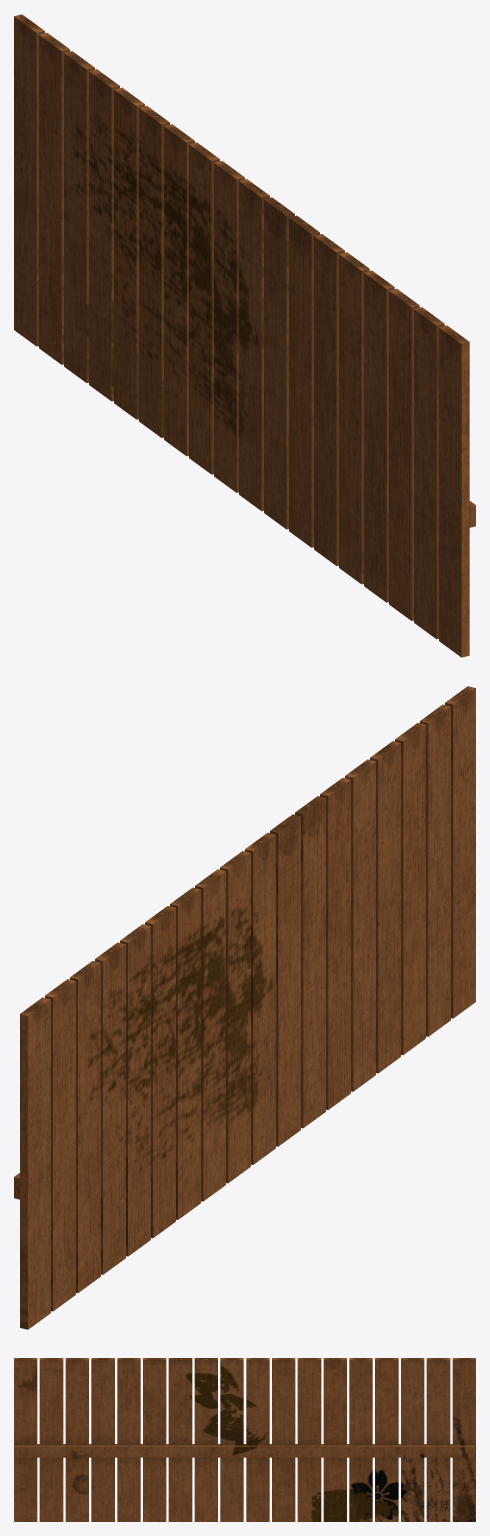
File: ghibli_wood.glb
3 renders of one model, top to bottom at view 1: azimuth 30°, elevation 25°; view 2: azimuth 150°, elevation 25°; view 3: azimuth 270°, elevation 25°, orthographic. The views are drawn at different scales.
Visible parts, largest first — view 1: Cube; view 2: Cube; view 3: Cube.
Boxes of the visible parts, bbox=[...] form: Cube: bbox=[14, 14, 475, 657]; Cube: bbox=[14, 686, 475, 1329]; Cube: bbox=[14, 1358, 475, 1521].
Bounding box in the file's own units: 0.2402 × 4.91 × 12.69.
1 material, 1 textured.
